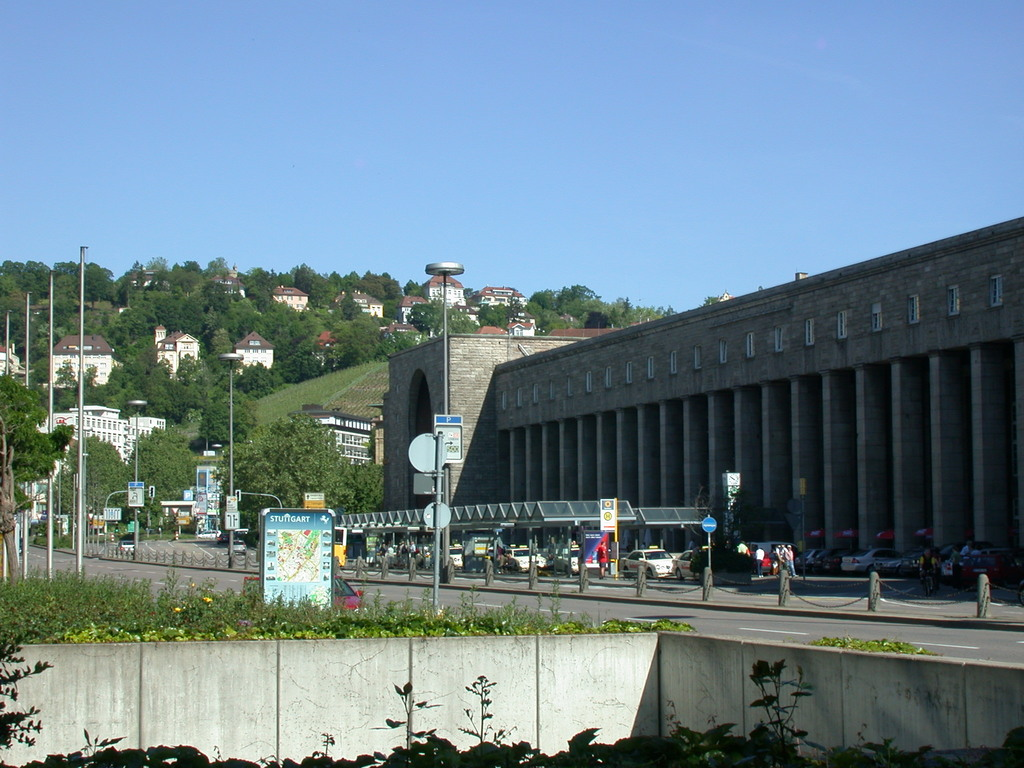Tree: (0, 240, 697, 555), (0, 365, 79, 578)
